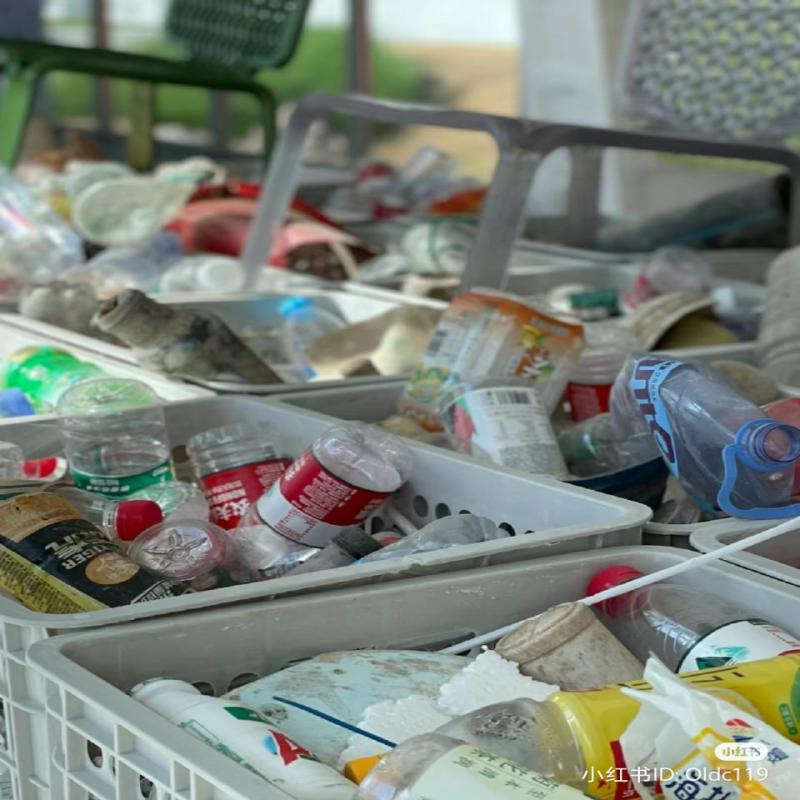botella: (604, 351, 800, 517), (580, 562, 800, 670), (213, 428, 414, 546), (186, 426, 301, 560), (445, 375, 577, 487), (57, 378, 178, 500), (6, 342, 170, 414), (123, 513, 246, 597), (43, 482, 170, 541)
